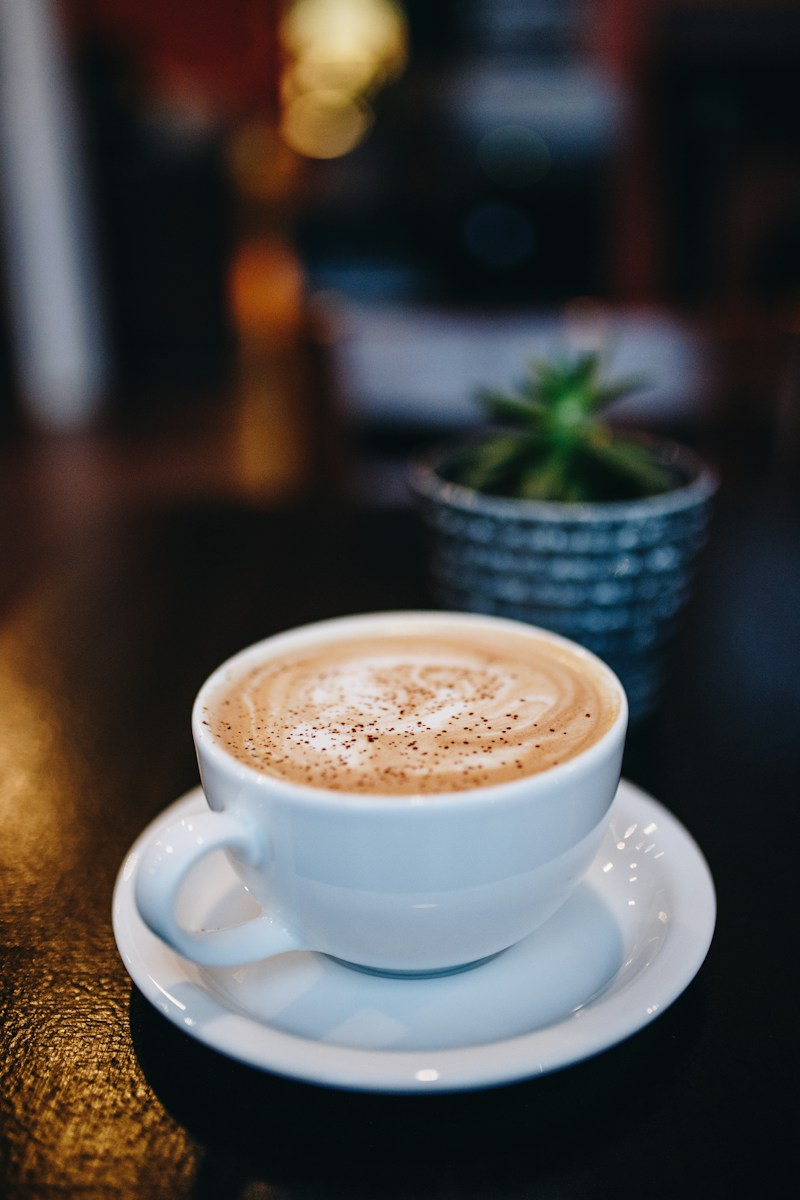cup: (133, 608, 630, 981)
